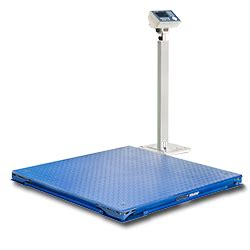Industrial Scale: (9, 10, 243, 224)
